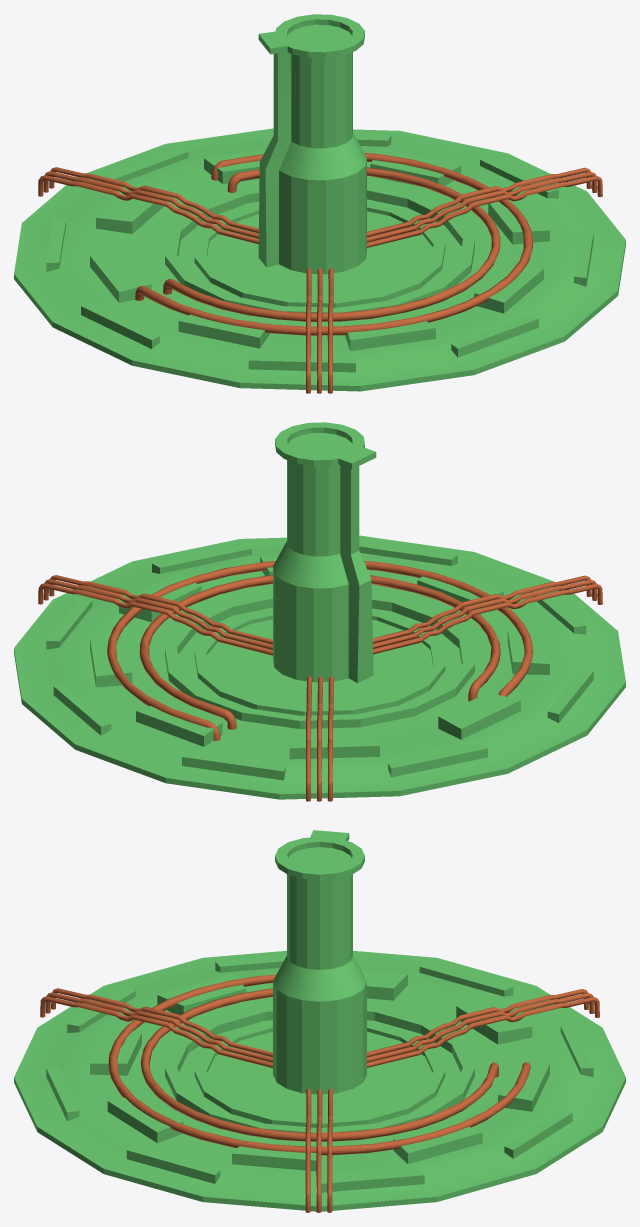
Rendered from Square.fbx.
The picture shows the model from 3 angles, top to bottom: view 1: azimuth 30°, elevation 25°; view 2: azimuth 150°, elevation 25°; view 3: azimuth 270°, elevation 25°; orthographic projection.
Parts seen in each view (by area): view 1: Square; view 2: Square; view 3: Square.
Part boxes in pixels (x1=…): Square: x1=14, y1=14, x2=625, y2=393; Square: x1=14, y1=422, x2=625, y2=801; Square: x1=14, y1=830, x2=625, y2=1212.
Size of the model in its own units: 8137 by 3273 by 7998.
